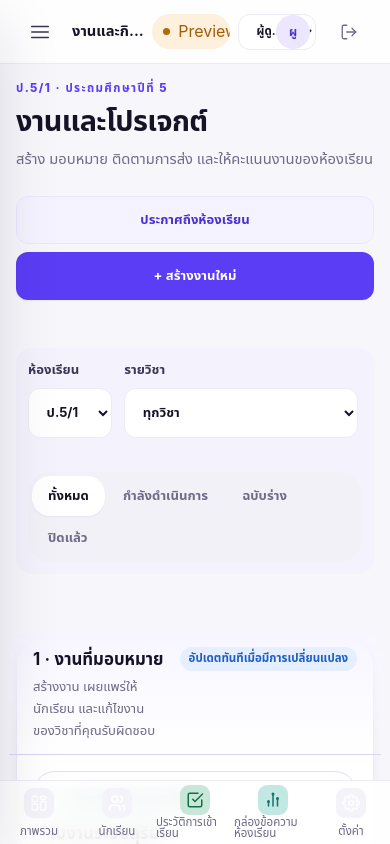
it: application shell and routes › opens the work form with reminder presets and rubric selection
The image size is (390, 844).
Click the button "+ สร้างงานใหม่": coordinates (195, 276) [16, 252, 374, 300]
(page scrolled)
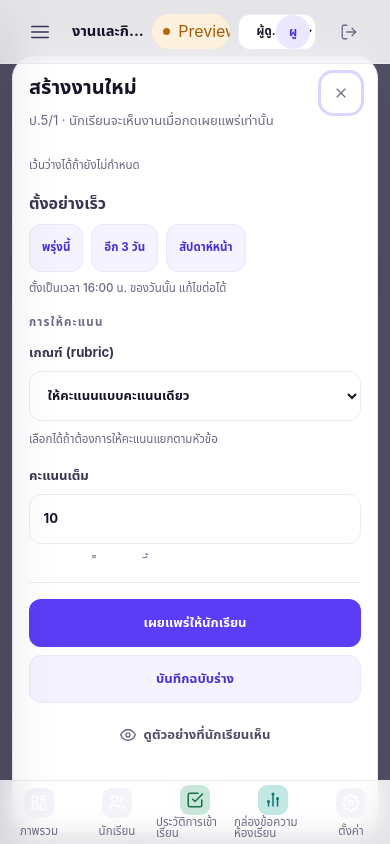
Expected: the heading "สร้างงานใหม่" is shown, [29, 72, 137, 102]
Expected: the text "เกณฑ์ (rubric)" is shown, [29, 343, 114, 363]
